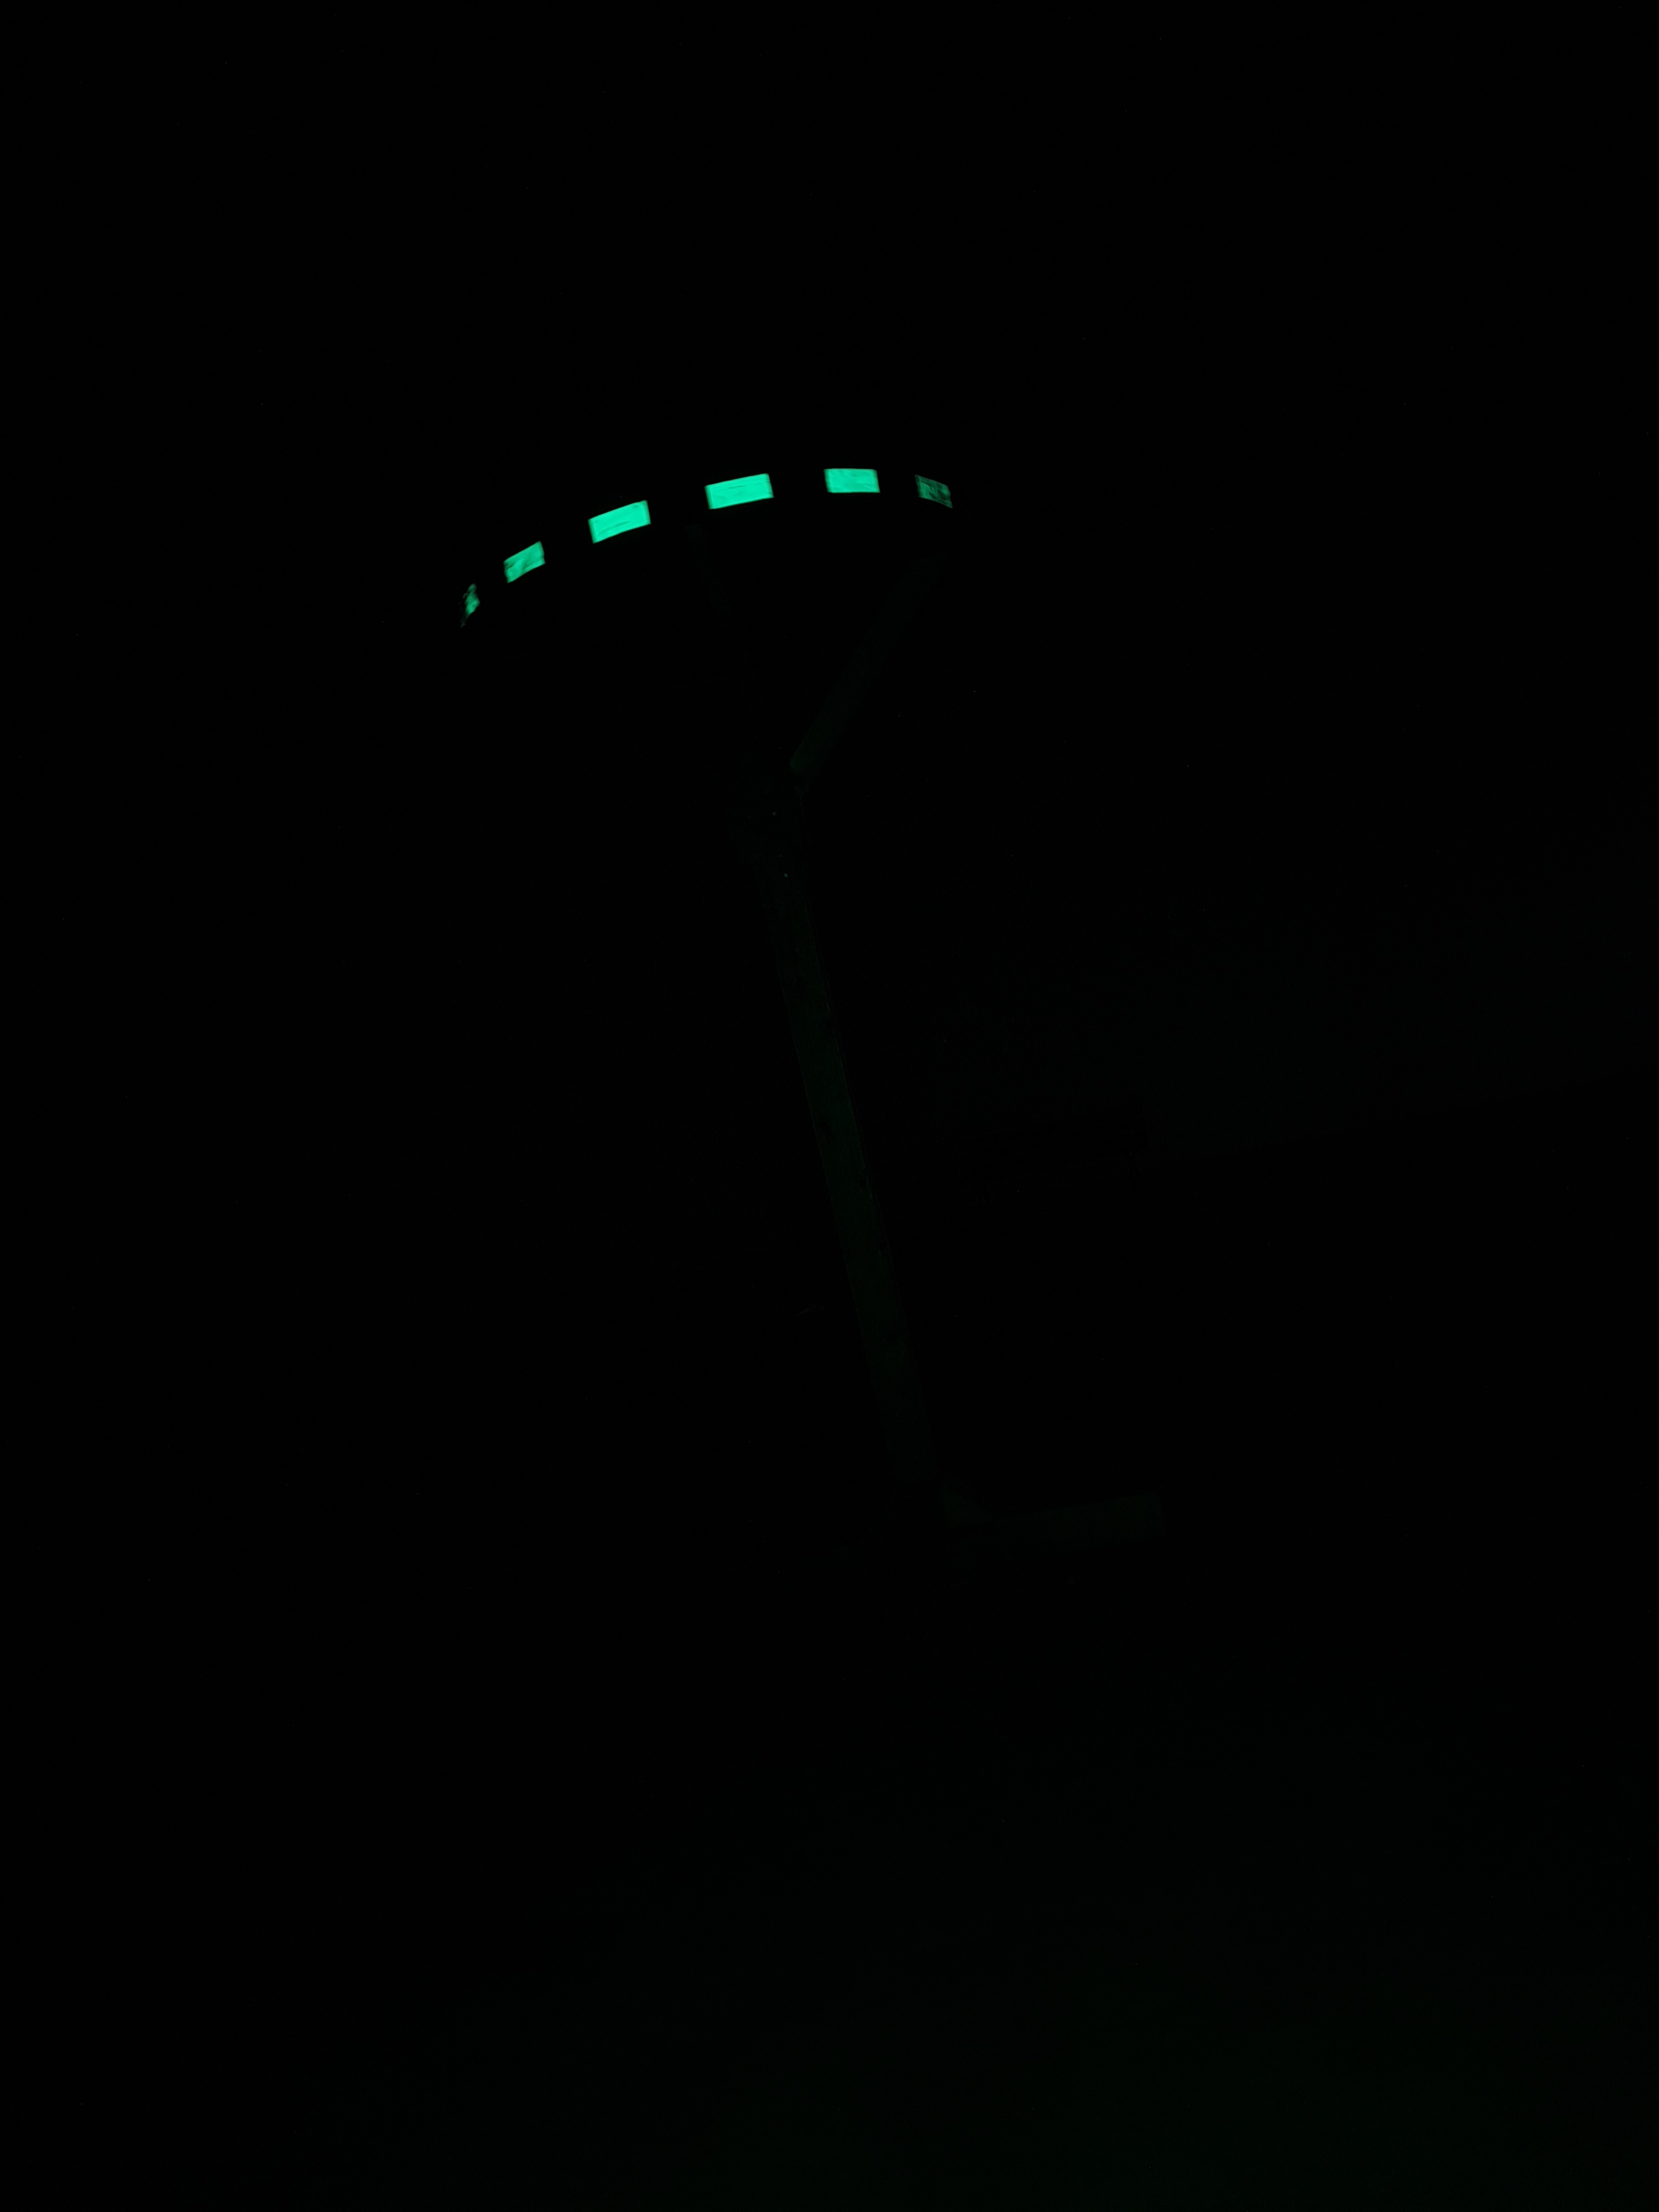hoop: (458, 460, 953, 627)
